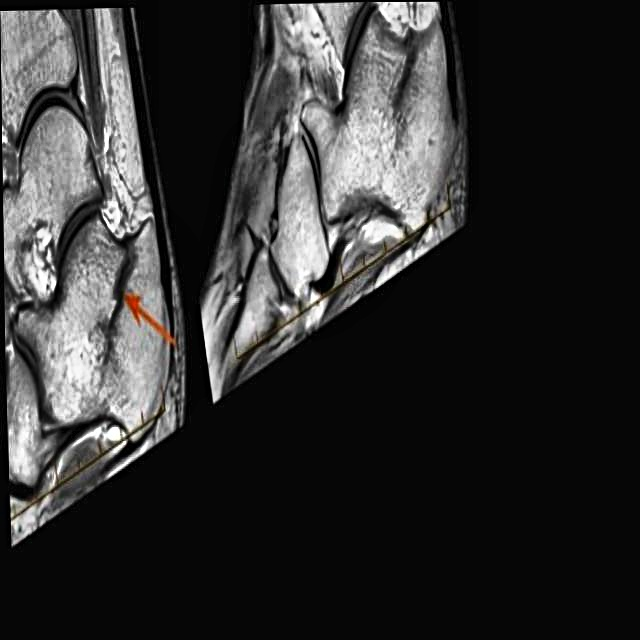Oblique Displaced: (93, 213, 143, 335)
